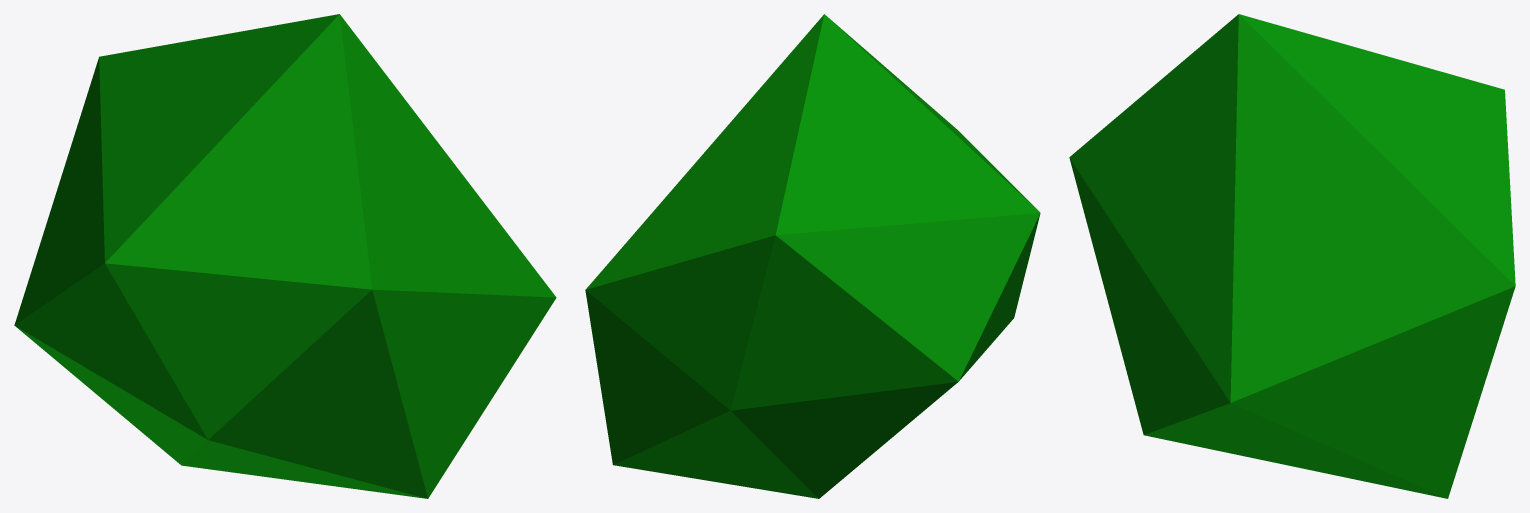
Rendered from Bush_3a.fbx.
3 renders of one model, left to right at view 1: azimuth 30°, elevation 25°; view 2: azimuth 150°, elevation 25°; view 3: azimuth 270°, elevation 25°, orthographic. The views are drawn at different scales.
Visible parts, largest first — view 1: Bush_3a; view 2: Bush_3a; view 3: Bush_3a.
Boxes of the visible parts, x1,y1,x2,y2 form: Bush_3a: (14,14,556,498); Bush_3a: (585,14,1040,498); Bush_3a: (1069,14,1515,498).
Bounding box in the file's own units: 240 × 247 × 227.
